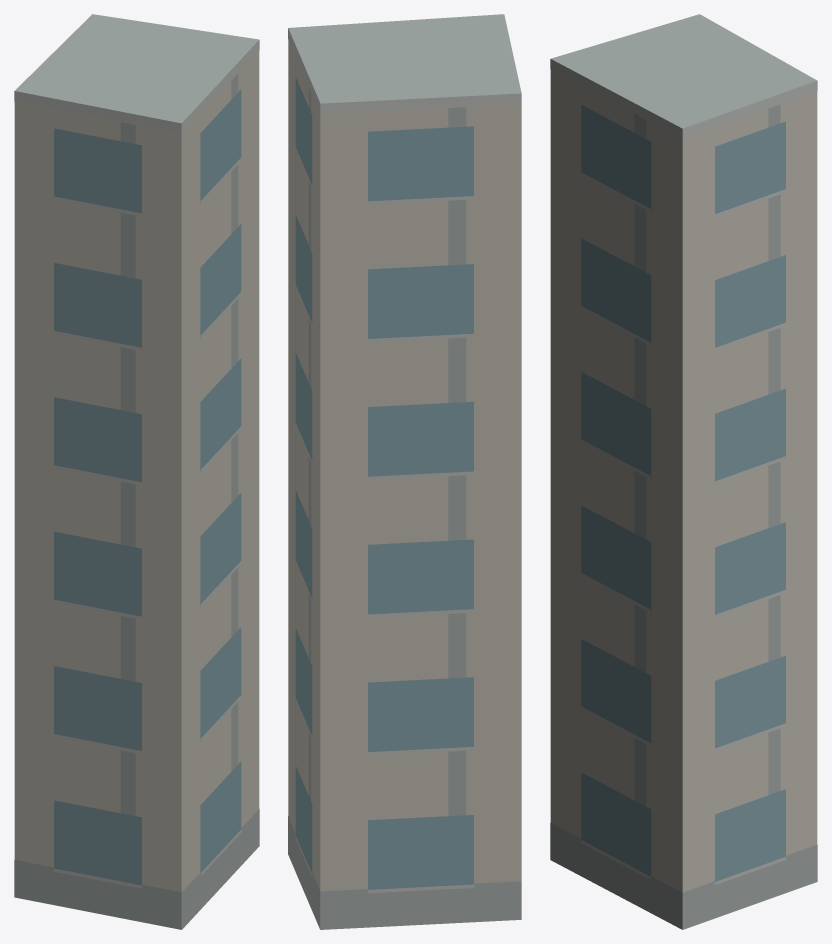
File: survey-upis-32830223.glb
The picture shows the model from 3 angles, left to right: view 1: azimuth 30°, elevation 25°; view 2: azimuth 150°, elevation 25°; view 3: azimuth 270°, elevation 25°; orthographic projection. The views are drawn at different scales.
Visible parts, largest first — view 1: survey-upis-32830223.tmp; view 2: survey-upis-32830223.tmp; view 3: survey-upis-32830223.tmp.
Boxes of the visible parts, x1,y1,x2,y2 form: survey-upis-32830223.tmp: (14, 14, 259, 929); survey-upis-32830223.tmp: (288, 14, 521, 929); survey-upis-32830223.tmp: (550, 14, 817, 929).
Bounding box in the file's own units: 5.62 × 18.3 × 5.54.
